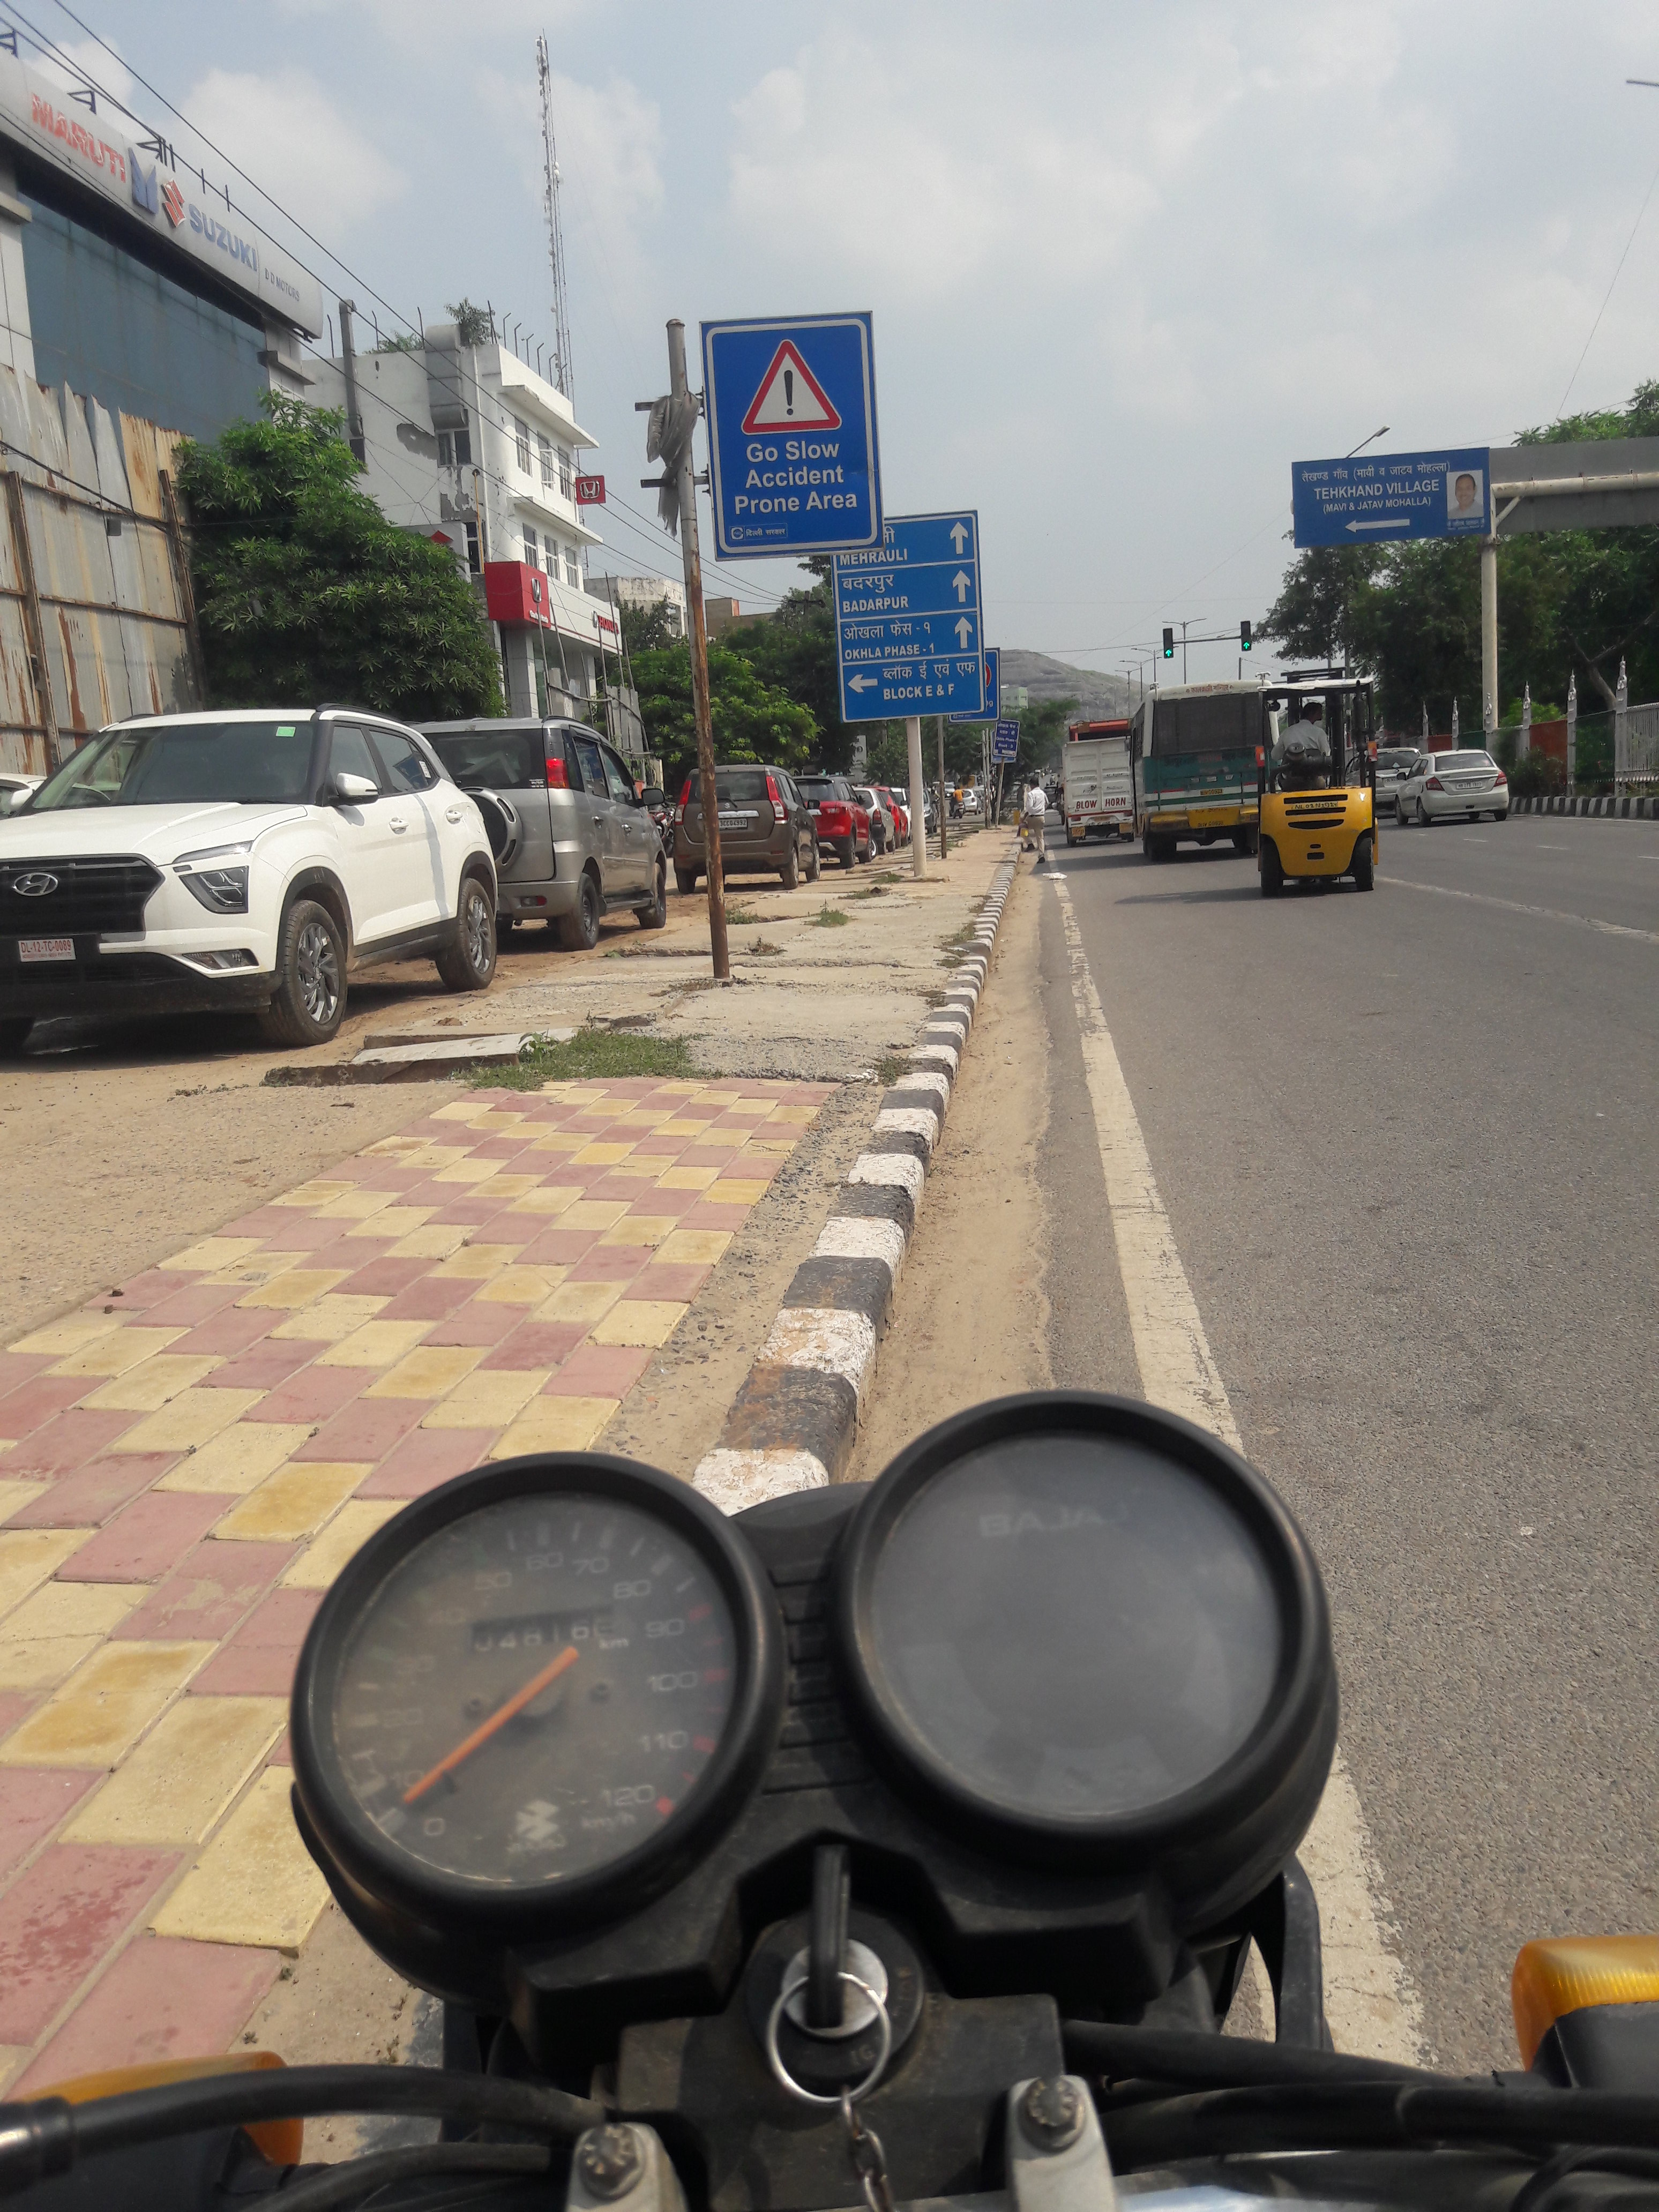traffic_sign: (666, 310, 882, 566), (950, 646, 999, 723), (1162, 625, 1173, 660), (1239, 620, 1251, 650)
